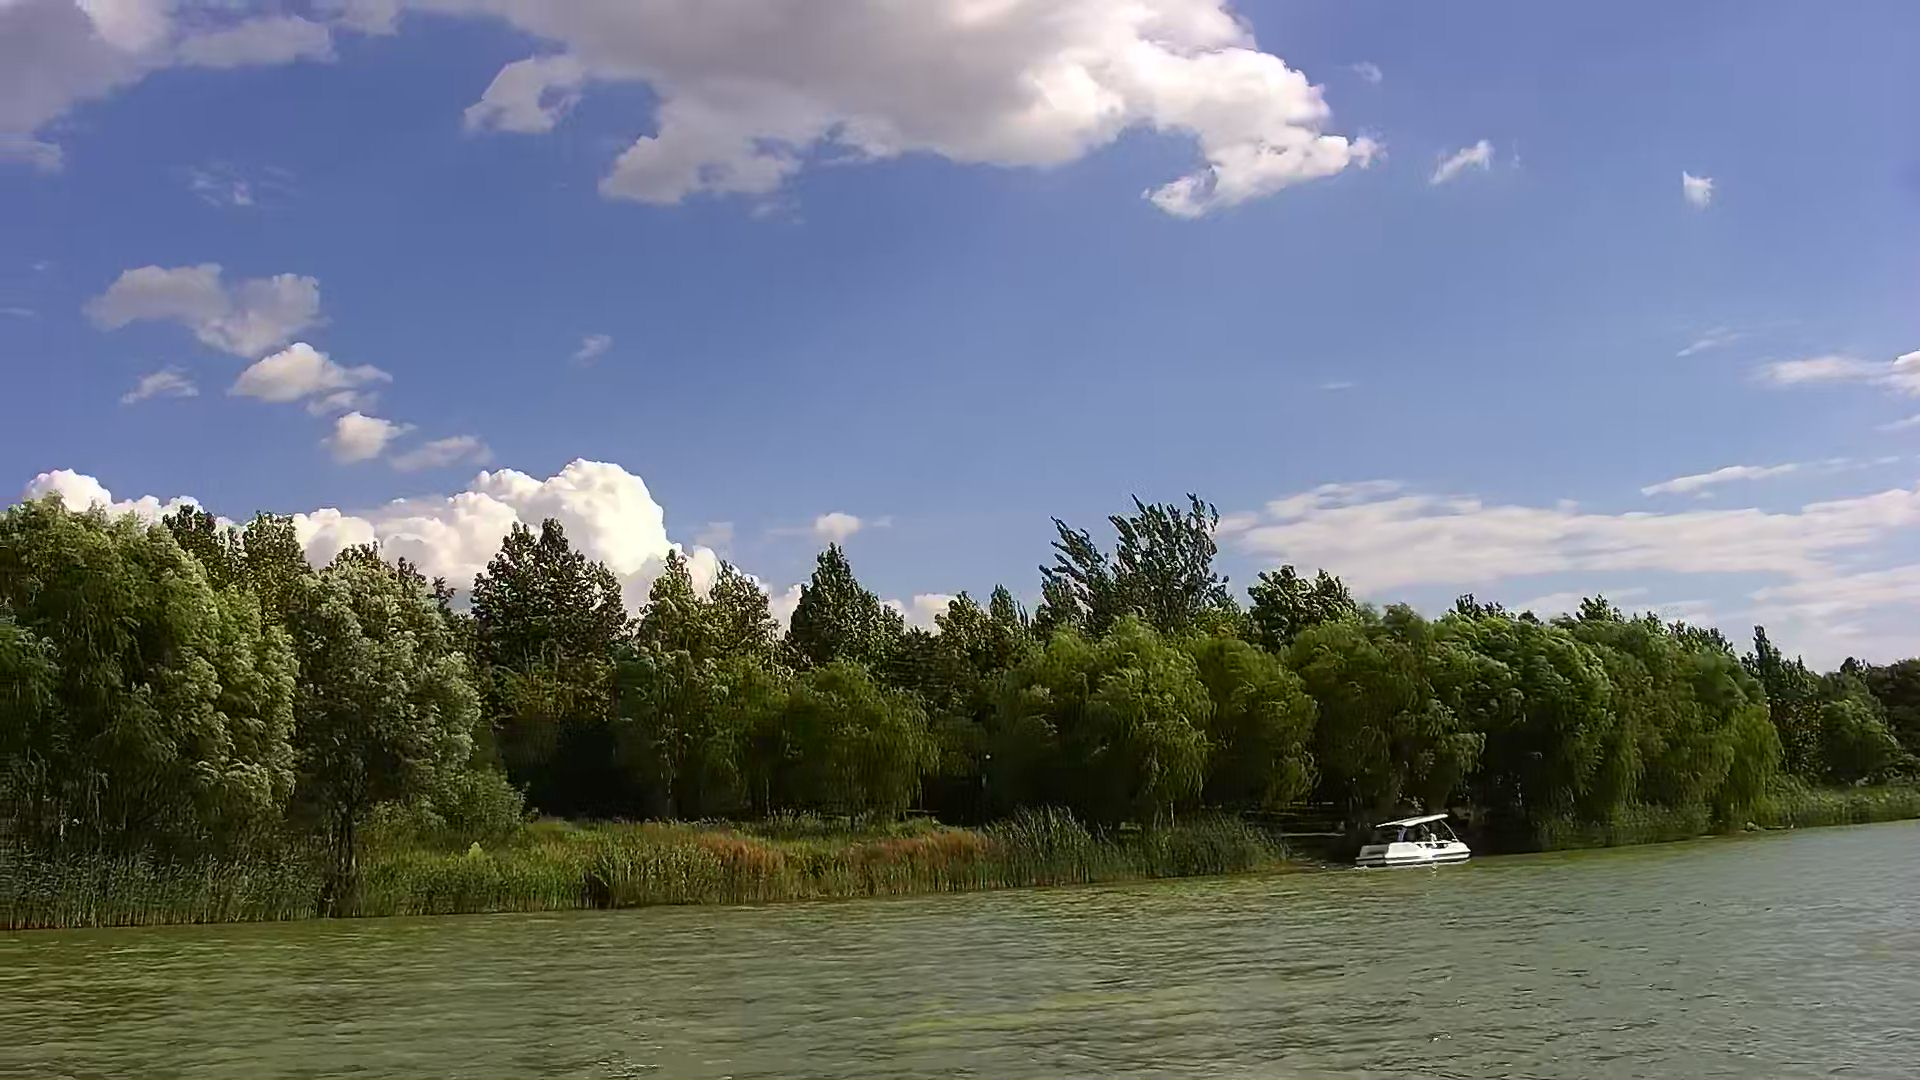boat: (1354, 810, 1472, 866)
